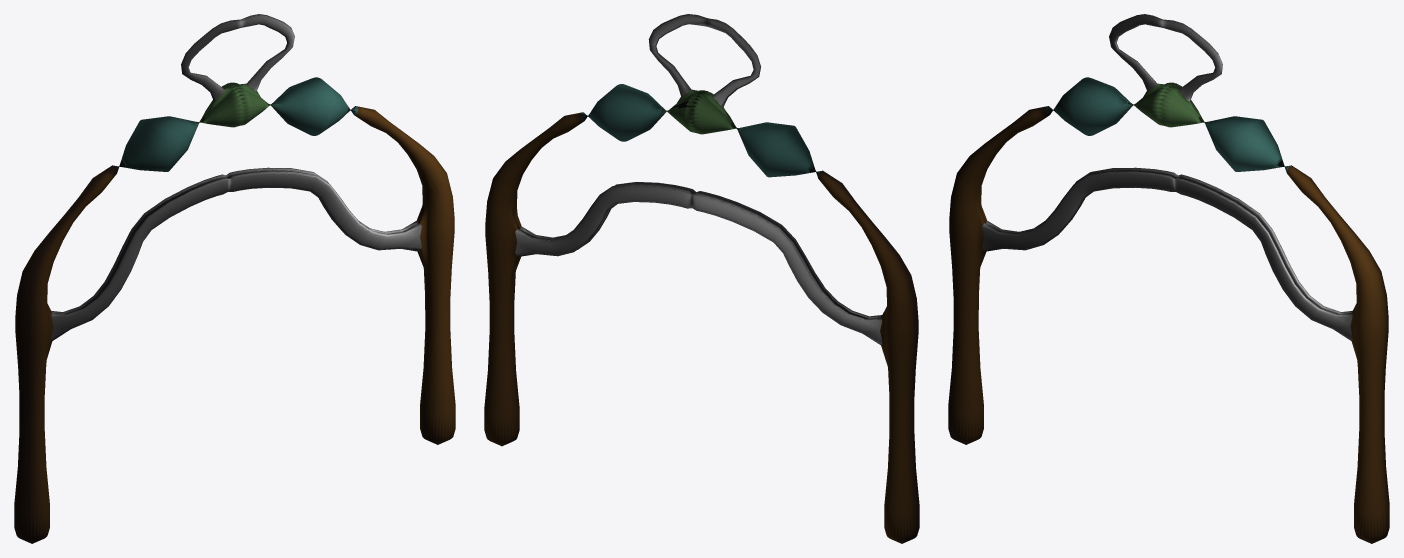
File: gate.obj
The picture shows the model from 3 angles, left to right: view 1: azimuth 30°, elevation 25°; view 2: azimuth 150°, elevation 25°; view 3: azimuth 330°, elevation 25°; orthographic projection.
Visible parts, largest first — view 1: Cylinder; view 2: Cylinder; view 3: Cylinder.
Part boxes in pixels (left/top/right/bottom): Cylinder: left=14, top=14, right=455, bottom=543; Cylinder: left=484, top=14, right=919, bottom=543; Cylinder: left=948, top=14, right=1389, bottom=543.
Bounding box in the file's own units: 3.07 × 3.23 × 0.3572.
Materials: 4 (4 with a texture image).
